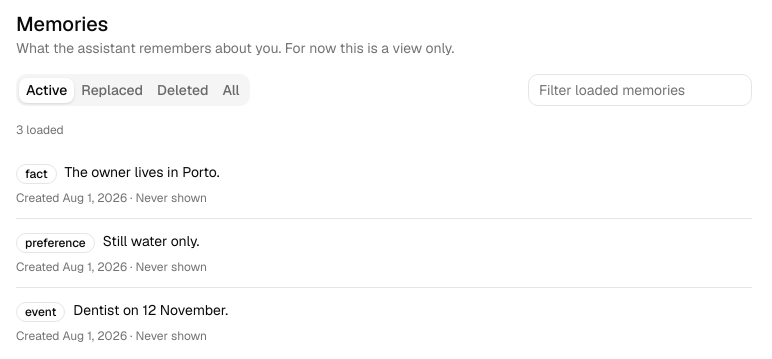
the filter box › narrows what is loaded, says how many match, and clears
Expected: the text "Still water only." is shown, 103,232 -> 200,250
Type "porto" into the search field named "Filter memories" at (640, 90), box 528,74 -> 752,106
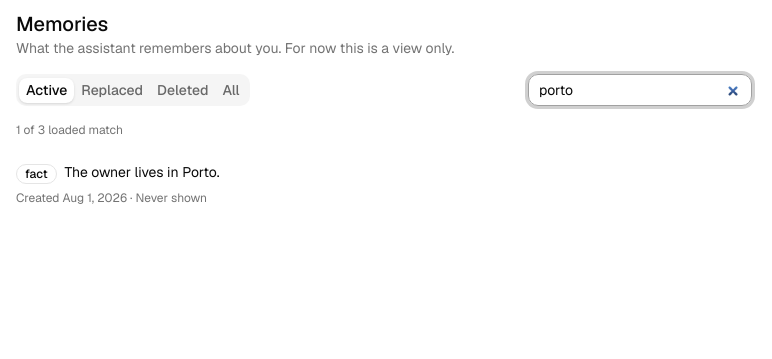
Expected: the text "The owner lives in Porto." is shown, 65,163 -> 220,181
Now the text "Still water only." is gone
Now the message reads "1 of 3 loaded match", box 16,122 -> 123,138
Clear the search field at (640, 90), box 528,74 -> 752,106
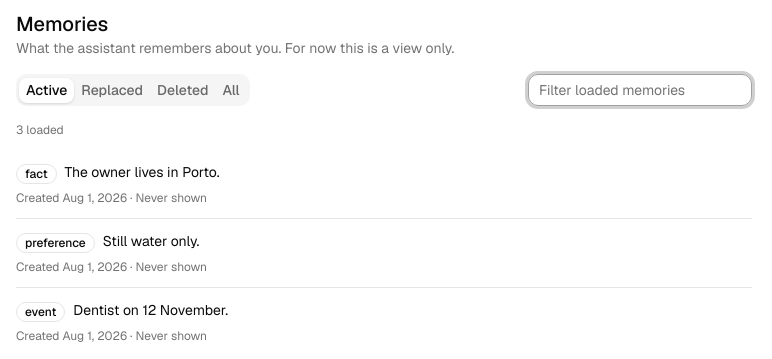
Now the text "Still water only." is shown, box 103,232 -> 200,250
